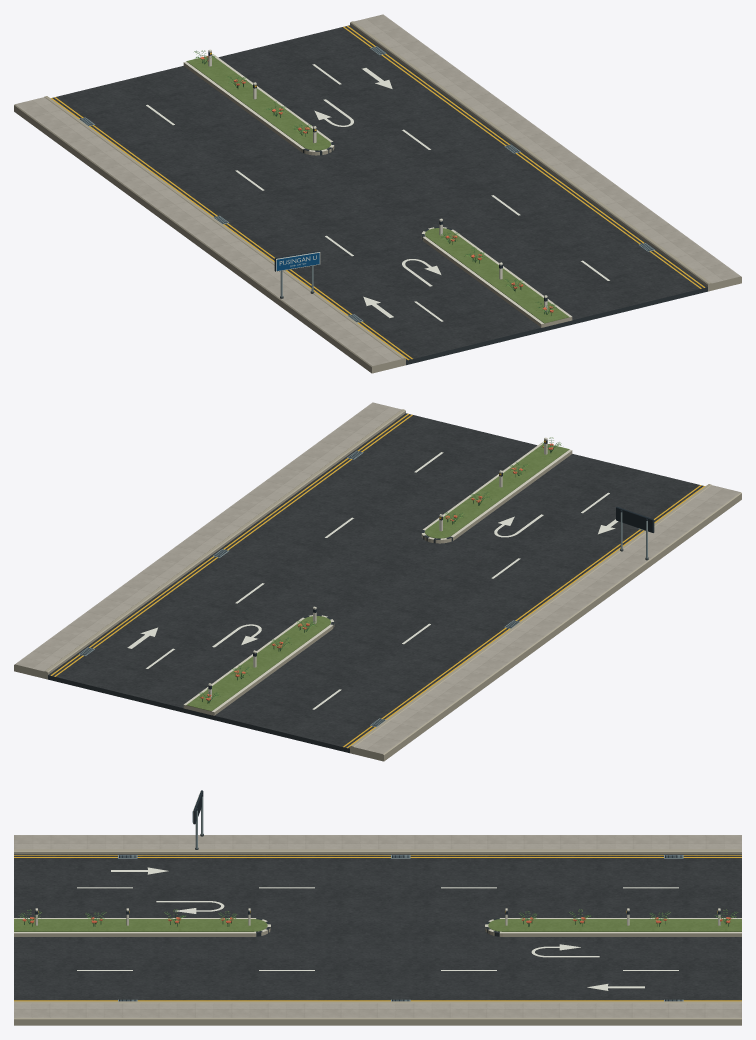
3 views of the same model, one above another, from view 1: azimuth 30°, elevation 25°; view 2: azimuth 150°, elevation 25°; view 3: azimuth 270°, elevation 25° (orthographic).
Visible parts, largest first — view 1: Road Deck, Kerbs and Footways, Median turf, Road Markings, Raised median islands, Wayfinding plaque, Ixora beds, Lane dividers; view 2: Road Deck, Kerbs and Footways, Median turf, Road Markings, Raised median islands, Ixora beds, Wayfinding plaque, Lane dividers; view 3: Road Deck, Kerbs and Footways, Median turf, Road Markings, Raised median islands, Ixora beds, Lane dividers, Drainage and Utility Covers, Ixora inflorescences, Wayfinding plaque.
Part boxes in pixels (bbox=[...]): Road Deck: bbox=[52, 25, 707, 365]; Kerbs and Footways: bbox=[14, 14, 741, 373]; Median turf: bbox=[186, 55, 569, 323]; Road Markings: bbox=[50, 25, 705, 360]; Raised median islands: bbox=[183, 54, 572, 327]; Wayfinding plaque: bbox=[274, 250, 320, 298]; Ixora beds: bbox=[194, 50, 556, 314]; Lane dividers: bbox=[146, 64, 609, 321]; Road Deck: bbox=[48, 413, 703, 753]; Kerbs and Footways: bbox=[14, 402, 741, 761]; Median turf: bbox=[186, 443, 569, 711]; Road Markings: bbox=[50, 413, 705, 748]; Raised median islands: bbox=[183, 442, 572, 715]; Ixora beds: bbox=[199, 437, 561, 702]; Wayfinding plaque: bbox=[616, 506, 654, 560]; Lane dividers: bbox=[146, 452, 609, 709]; Road Deck: bbox=[14, 854, 741, 1000]; Kerbs and Footways: bbox=[14, 835, 741, 1025]; Median turf: bbox=[14, 919, 741, 931]; Road Markings: bbox=[14, 855, 741, 1001]; Raised median islands: bbox=[14, 918, 741, 936]; Ixora beds: bbox=[18, 909, 737, 923]; Lane dividers: bbox=[77, 887, 678, 970]; Drainage and Utility Covers: bbox=[118, 855, 683, 1001]; Ixora inflorescences: bbox=[22, 917, 731, 926]; Wayfinding plaque: bbox=[192, 790, 203, 849].
Bounding box in the file's own units: 19.33 × 2.4 × 32.
19 materials, 3 textured.
